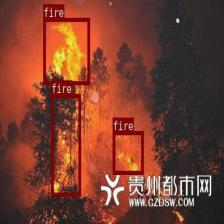fire: (42, 18, 90, 84), (51, 94, 80, 196), (112, 130, 143, 174)
